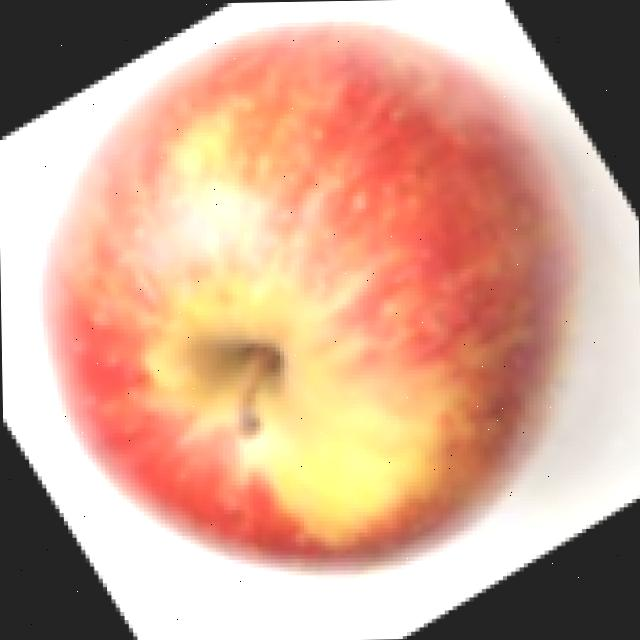Ripe: (19, 9, 586, 588)
